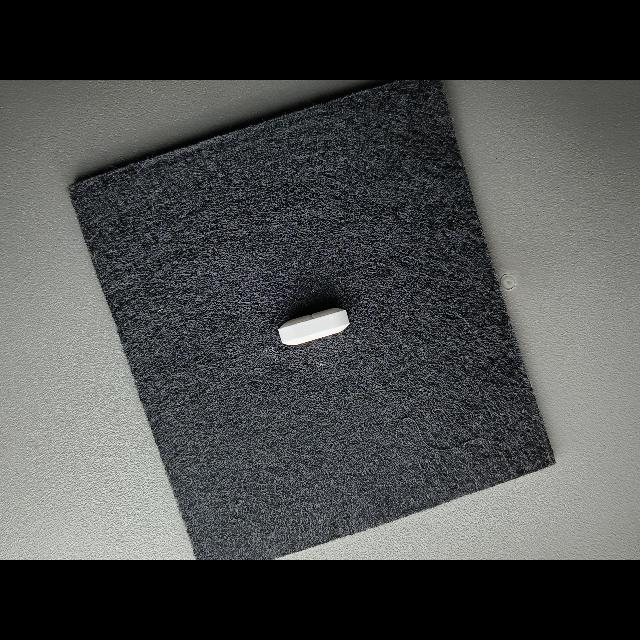Intact Pill: (278, 308, 350, 345)
